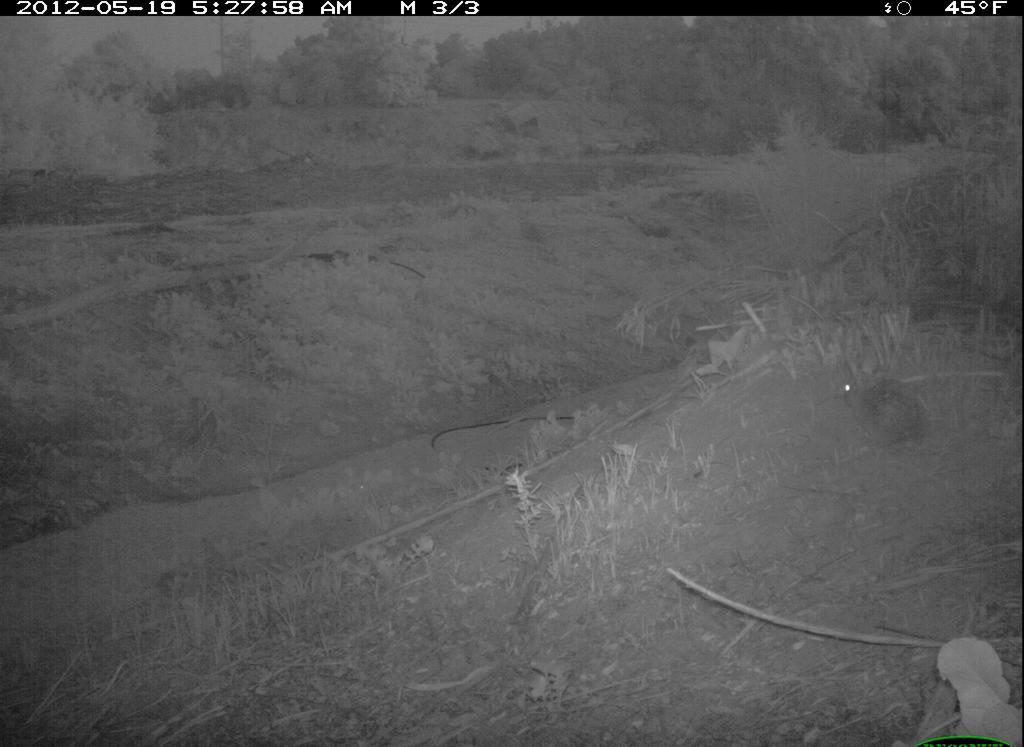rabbit: (834, 356, 934, 454)
